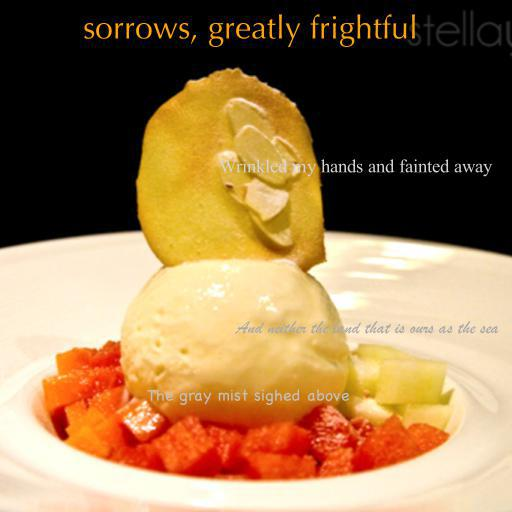Brush Script MT: (235, 321, 499, 335)
Chalkboard: (147, 389, 349, 406)
Optima: (82, 14, 418, 47)
Times New Roman: (218, 159, 492, 177)
